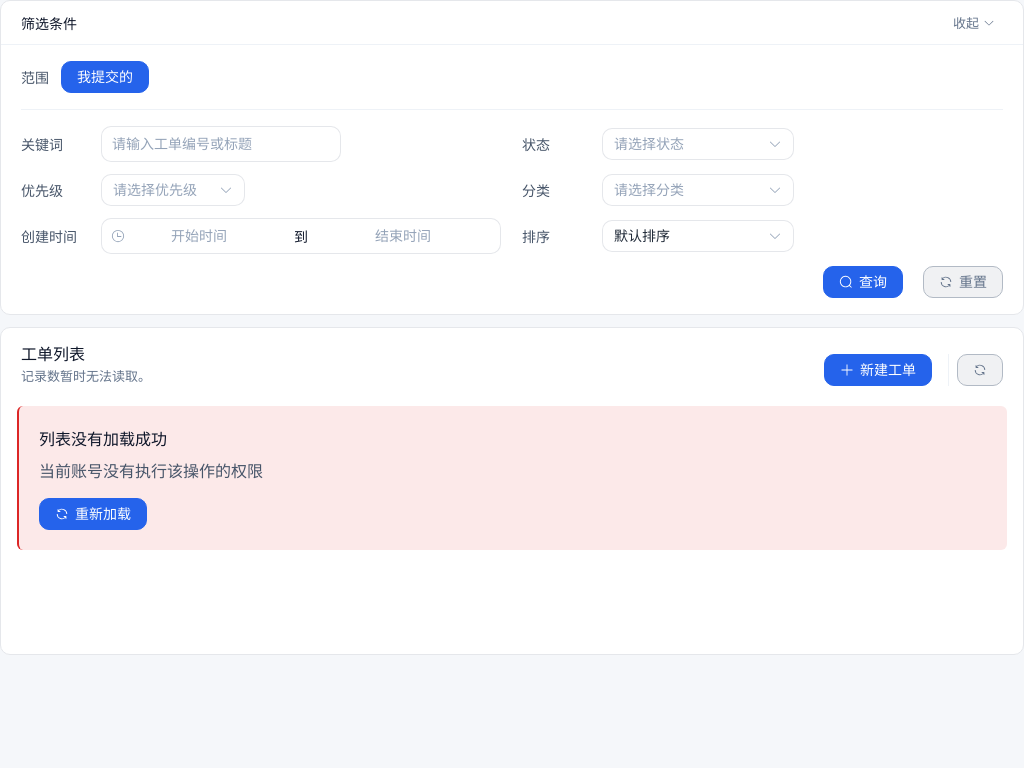
Scenario: TicketListView › 加载失败进入错误态，可原位重试
The image size is (1024, 768).
Expected: the message "列表没有加载成功 当前账号没有执行该操作的权限 重新加载" is shown, x1=17 y1=406 x2=1007 y2=550
Click the button "重新加载".
click(93, 514)  # box x1=39 y1=498 x2=147 y2=530
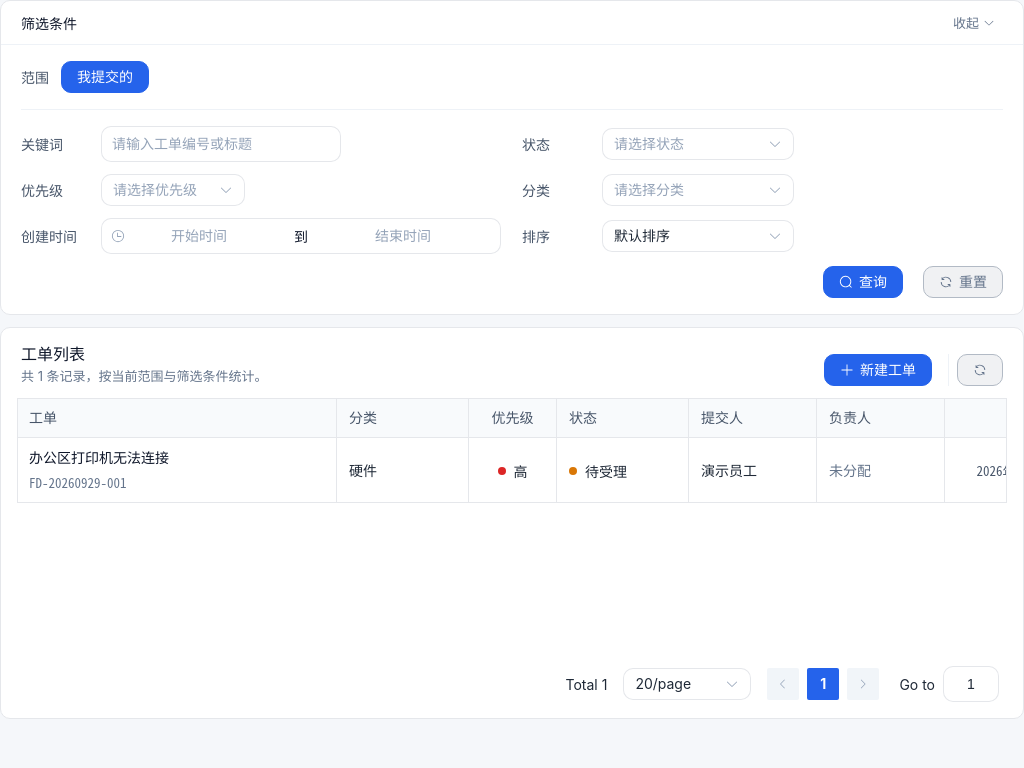
Expected: the link with class "ticket-cell__title" reads "办公区打印机无法连接", x1=29 y1=449 x2=169 y2=466
